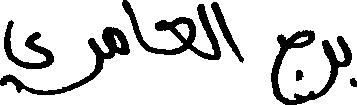X: (0, 15, 52, 99), (54, 25, 103, 99), (272, 25, 314, 104), (157, 12, 193, 59), (316, 35, 336, 103), (198, 0, 219, 64), (105, 0, 126, 63), (221, 7, 243, 67), (339, 31, 356, 91), (128, 0, 145, 58)
